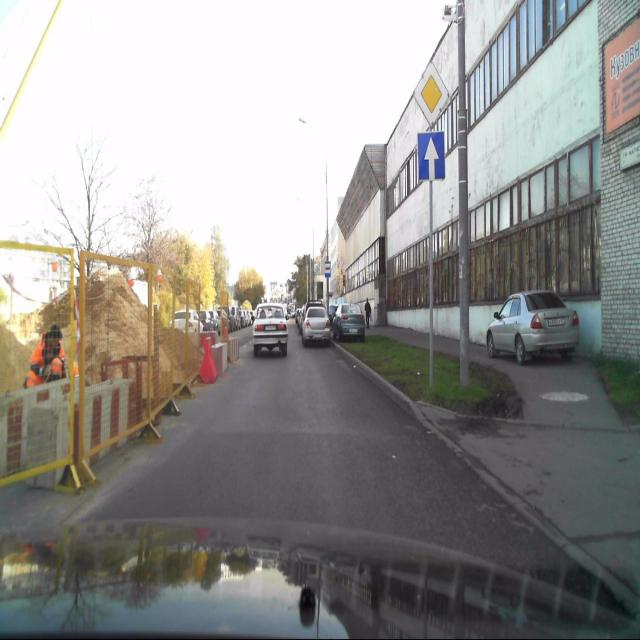object: (430, 182, 434, 390)
road sign: (412, 60, 448, 128), (418, 130, 446, 181)
